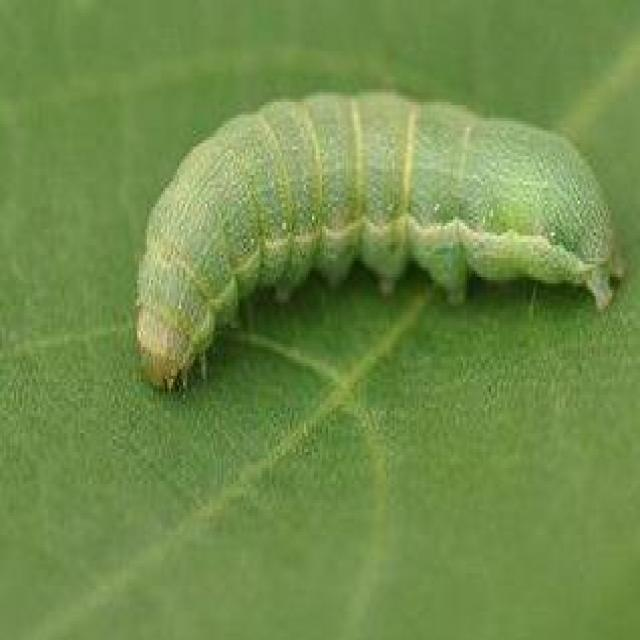BeetArmyWorm-Larva-: (124, 92, 633, 396)
